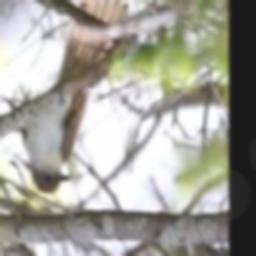Cuckoo: (22, 0, 129, 195)
